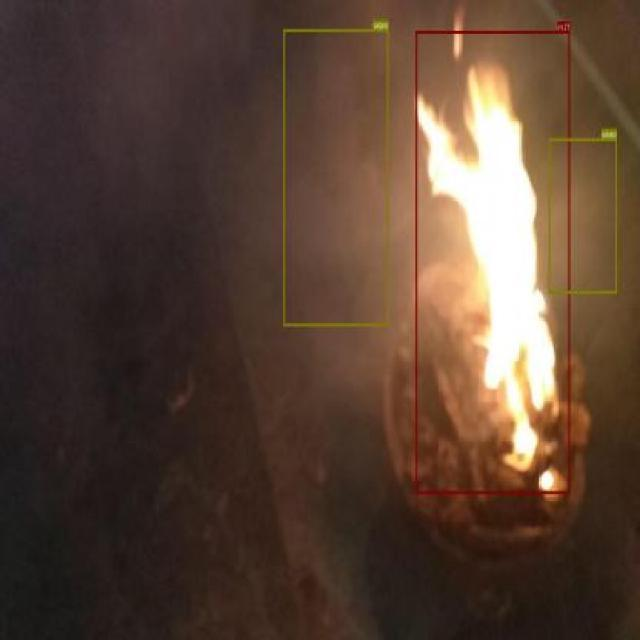Fire: (416, 30, 570, 493)
Smoke: (284, 28, 388, 326), (549, 138, 617, 294)
